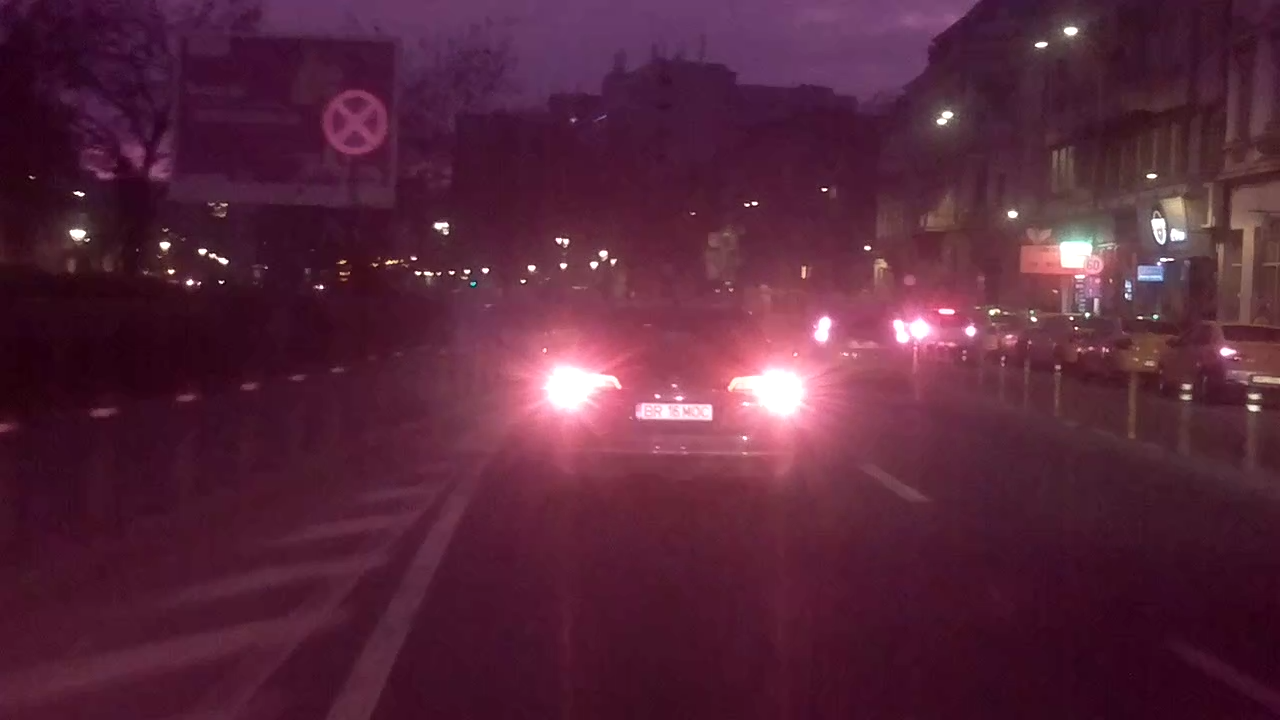license-plate: (631, 400, 715, 423)
